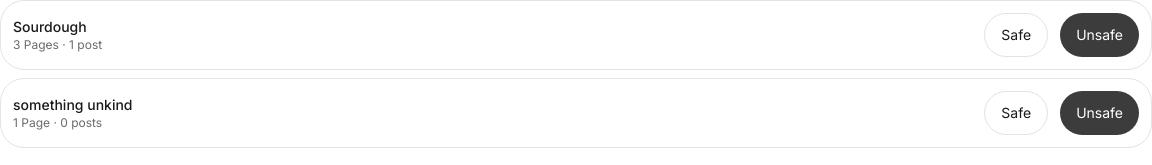
Test: #287 — reviewing tags › marks a tag safe or unsafe, and takes it off the list
Step 1. Click the button "Unsafe" in the row of "something unkind" → (1100, 113), box [1060,91,1139,135]
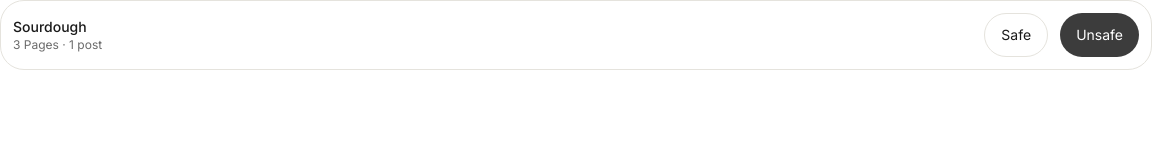
Check: the number of list items with test id "tag-review-row" is 1, box [0,0,1151,70]
